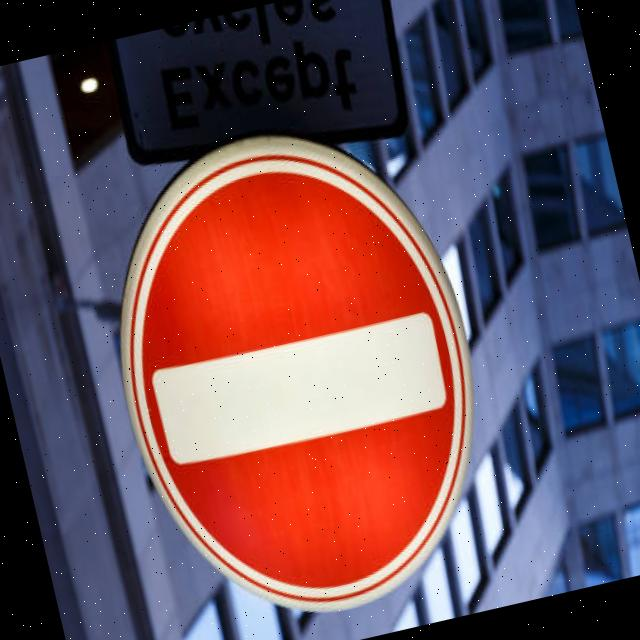do_not_enter: (73, 97, 523, 640)
